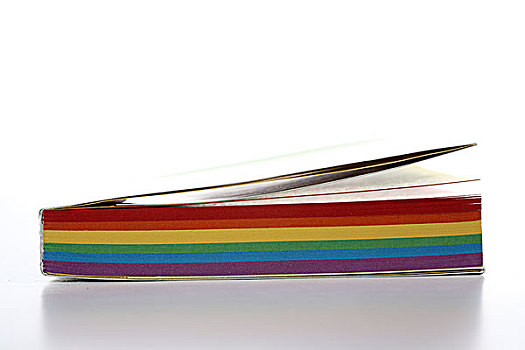book: (32, 138, 488, 286)
